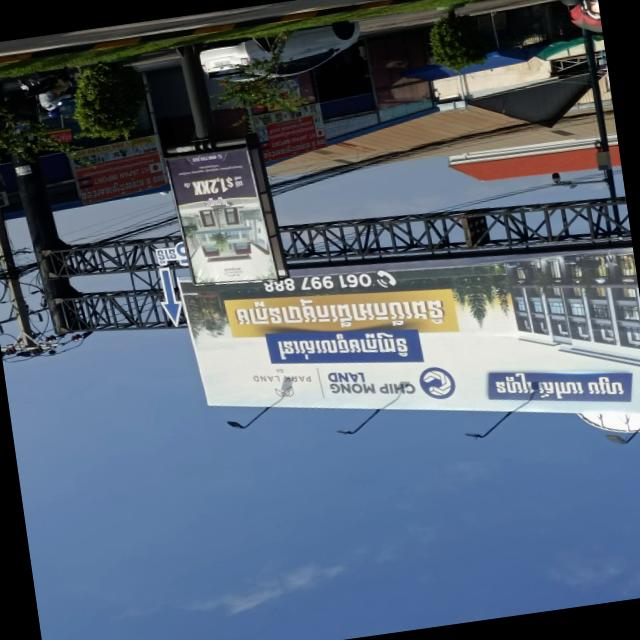2: (492, 374, 631, 399), (82, 172, 168, 205), (263, 137, 327, 163)
348: (258, 271, 374, 296)
Yolov11kh: (228, 292, 450, 333), (274, 332, 414, 364), (201, 196, 235, 210), (233, 180, 246, 189)
